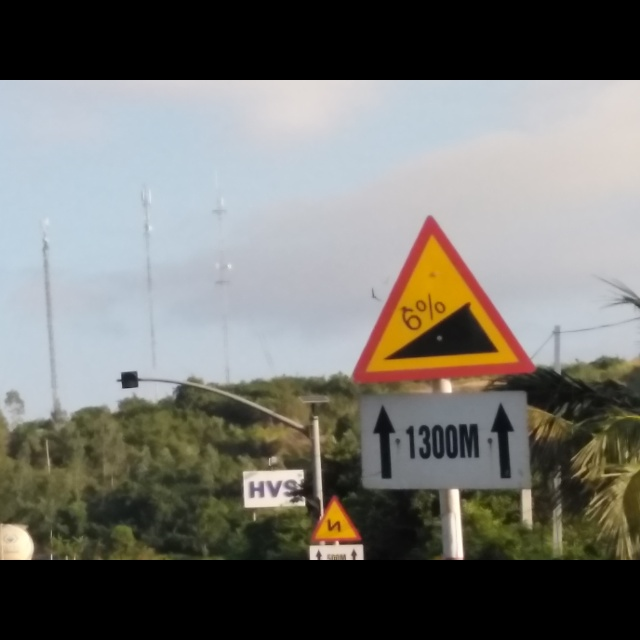Dốc lên nguy hiểm: (345, 212, 531, 385)
Ngoặt nguy hiểm liên tiếp bên phải: (309, 491, 361, 544)
